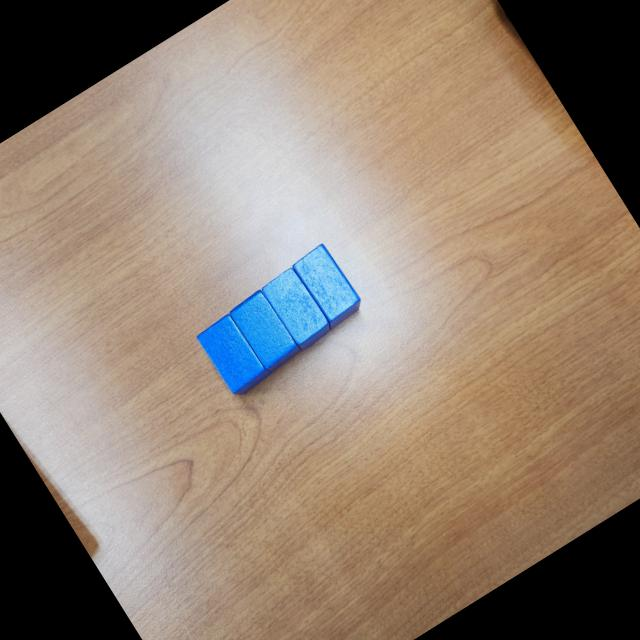blue: (258, 264, 336, 353), (226, 286, 304, 375), (288, 242, 366, 331), (196, 312, 272, 400)
